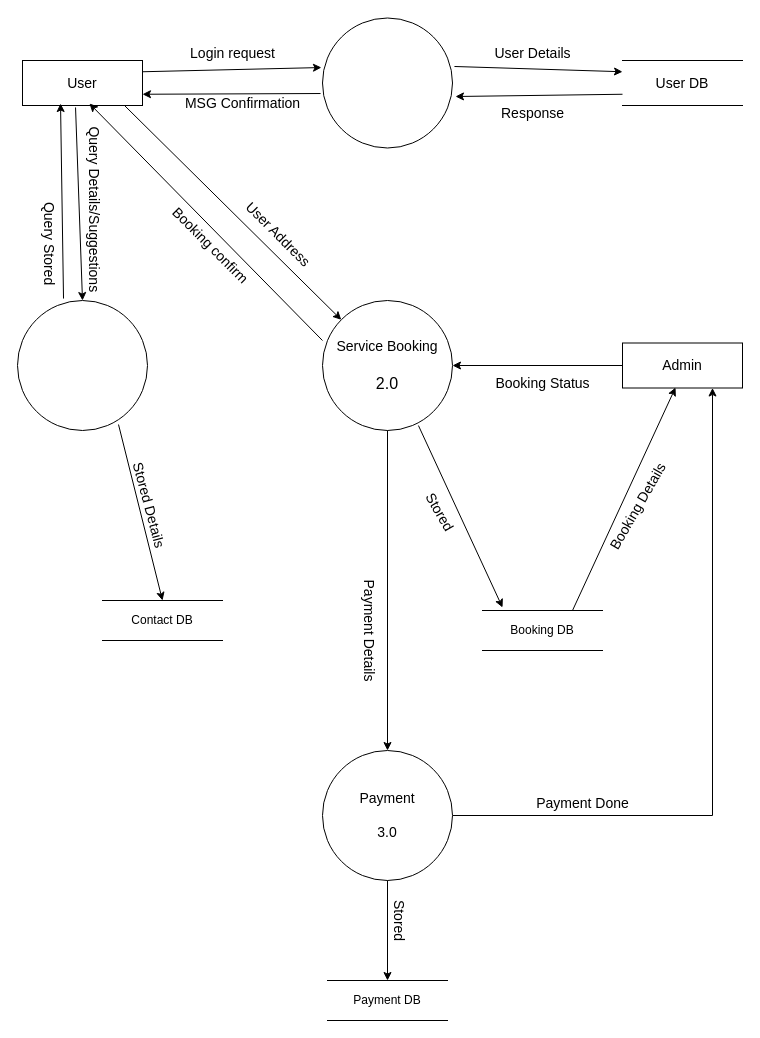
The diagram is 760 pixels wide and 1038 high, and some of its shapes have lost their labels. The box of each missing label's shape, as (x1, y1, x2, y2) in pixels:
Login 1.0: (322, 17, 452, 148)
Queries Sharing 4.0: (16, 300, 148, 430)
